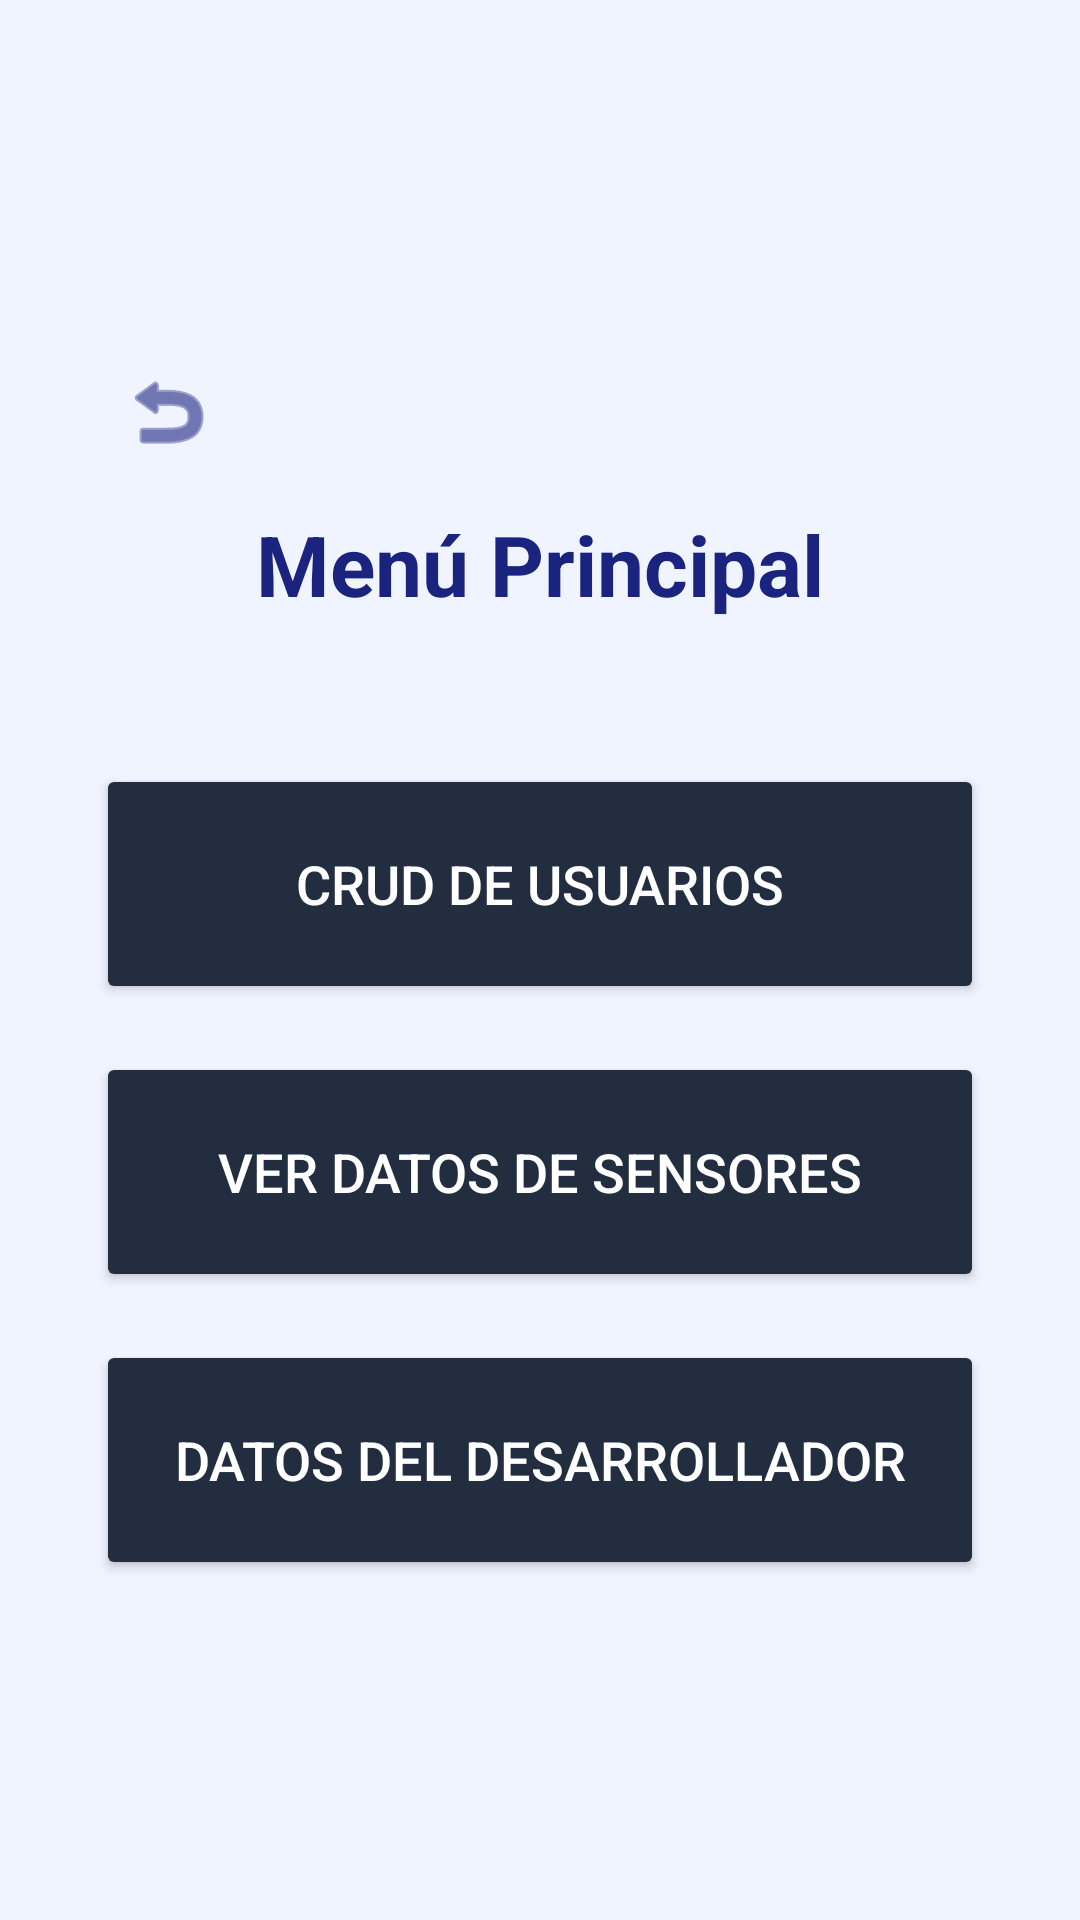

Icon bounding boxes for this 1080 × 1920 phone screenshot, format (x1=x1, y1=y1, x2=x2, y2=y2):
Volver: (x1=135, y1=381, x2=204, y2=444)
